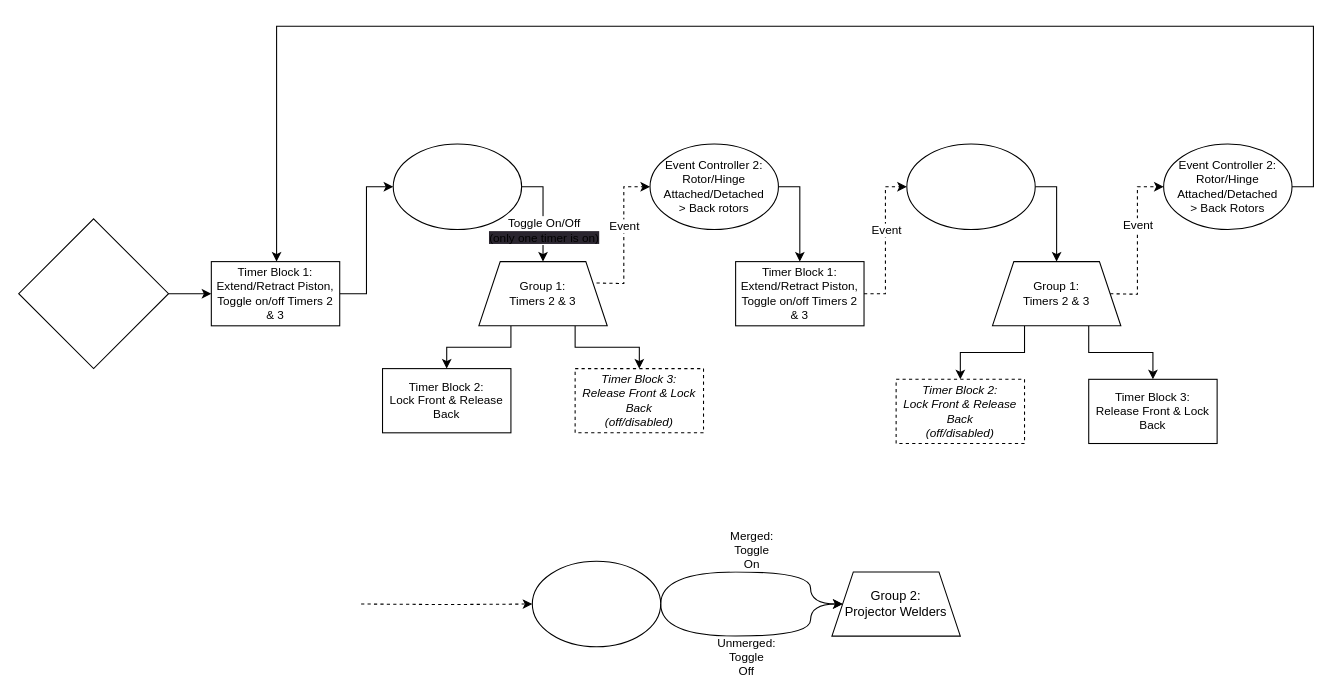
This 1341x698 diagram has some shape labels left out. The centre of each missing label's shape, as x and y in pixels:
"Event Controller 1: Piston Position % = 100" belongs at [457,186].
"Event Controller 3: Piston Position % = 0" belongs at [970,186].
"Event Controller 4: Front Merge Block is merged/unmerged" belongs at [596,603].
"Start: Back locked, Front unlocked, Piston retracted" belongs at [93,293].
